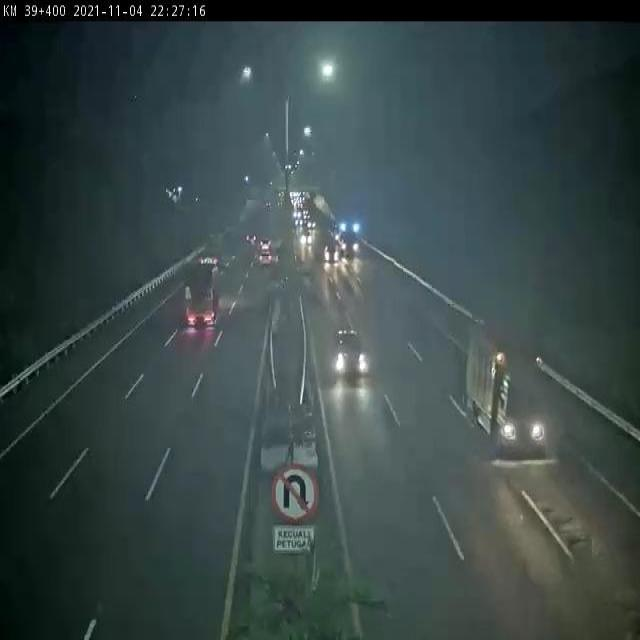car: (330, 326, 368, 378), (257, 251, 273, 269)
truck-m-: (463, 325, 544, 455), (185, 263, 219, 325), (196, 235, 224, 268)
